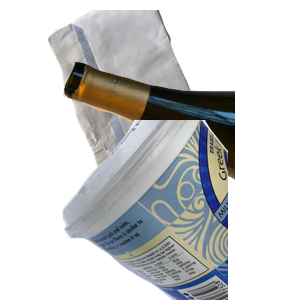glass: (60, 59, 300, 231)
paper: (45, 10, 251, 190)
plastic: (60, 120, 300, 300)
trash: (65, 145, 242, 300)
